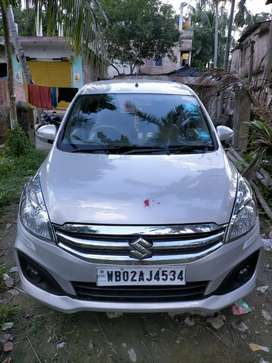WB02AJ4534: (97, 265, 185, 287)
